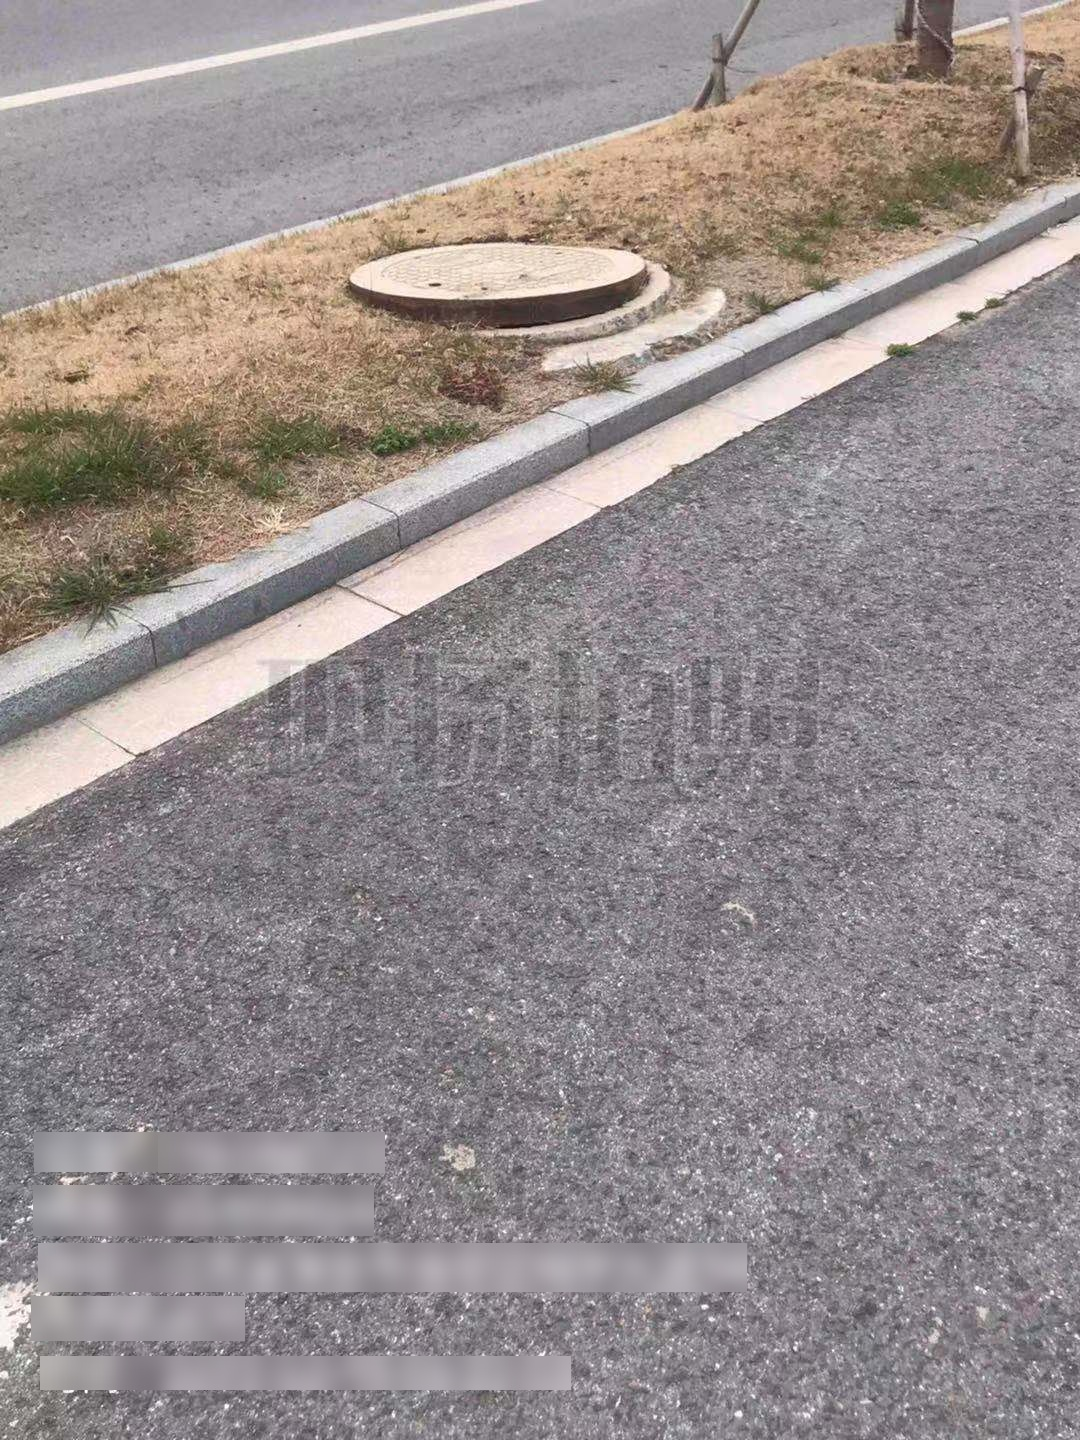uncovered: (344, 238, 666, 338)
